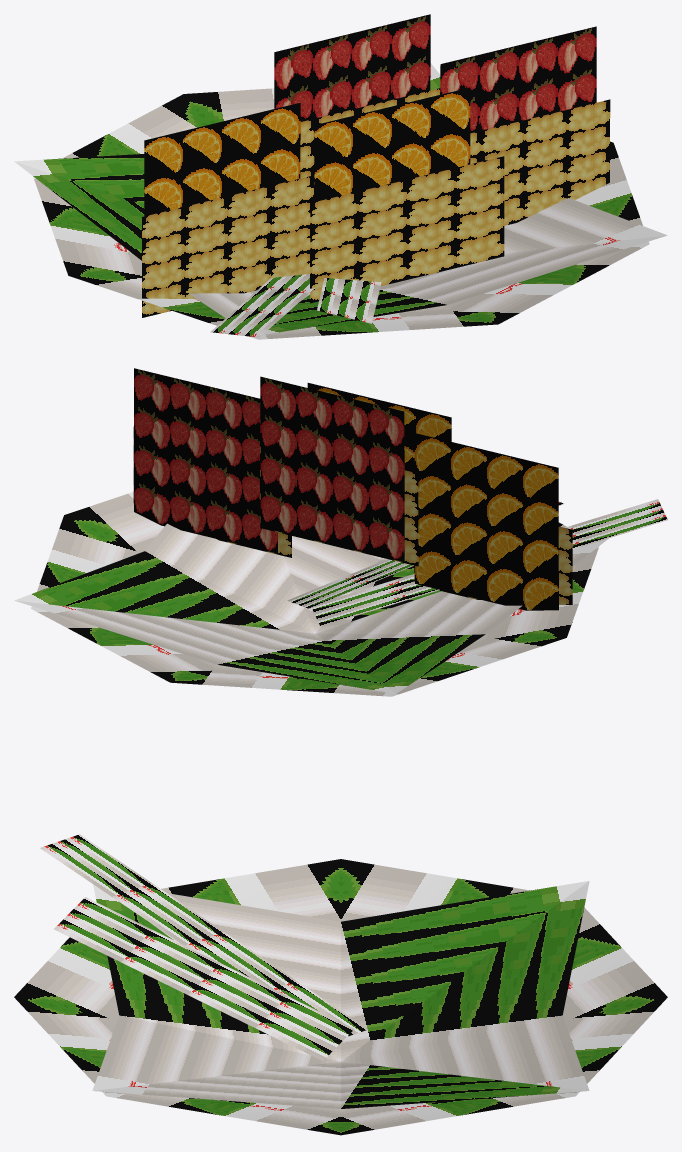
The model's file is 5540u_tnpr00_ss.gltf.
3 renders of one model, top to bottom at view 1: azimuth 30°, elevation 25°; view 2: azimuth 150°, elevation 25°; view 3: azimuth 270°, elevation 25°, orthographic. The views are drawn at different scales.
Visible parts, largest first — view 1: 5540u_tnpr00_ss; view 2: 5540u_tnpr00_ss; view 3: 5540u_tnpr00_ss.
Boxes of the visible parts, x1,y1,x2,y2 form: 5540u_tnpr00_ss: (14, 14, 667, 339); 5540u_tnpr00_ss: (14, 368, 667, 696); 5540u_tnpr00_ss: (14, 834, 667, 1135).
Size of the model in its own units: 0.8965 by 0.405 by 0.8965.
4 materials, 4 textured.
